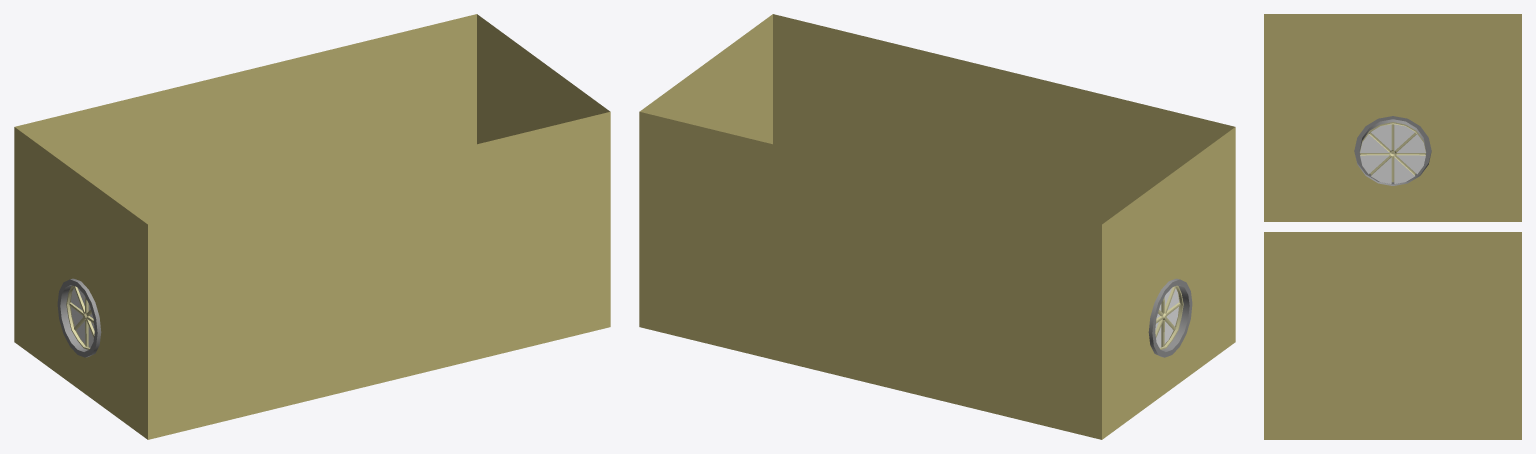
The model's file is Middle.fbx.
3 views of the same model, side by side, from view 1: azimuth 30°, elevation 25°; view 2: azimuth 150°, elevation 25°; view 3: azimuth 270°, elevation 25° (orthographic). The views are drawn at different scales.
Visible parts, largest first — view 1: TallHouse.025; view 2: TallHouse.025; view 3: TallHouse.025.
Boxes of the visible parts, bbox=[...] form: TallHouse.025: bbox=[14, 14, 610, 439]; TallHouse.025: bbox=[639, 14, 1235, 439]; TallHouse.025: bbox=[1264, 14, 1521, 439].
Bounding box in the file's own units: 8.06 × 3.56 × 4.
